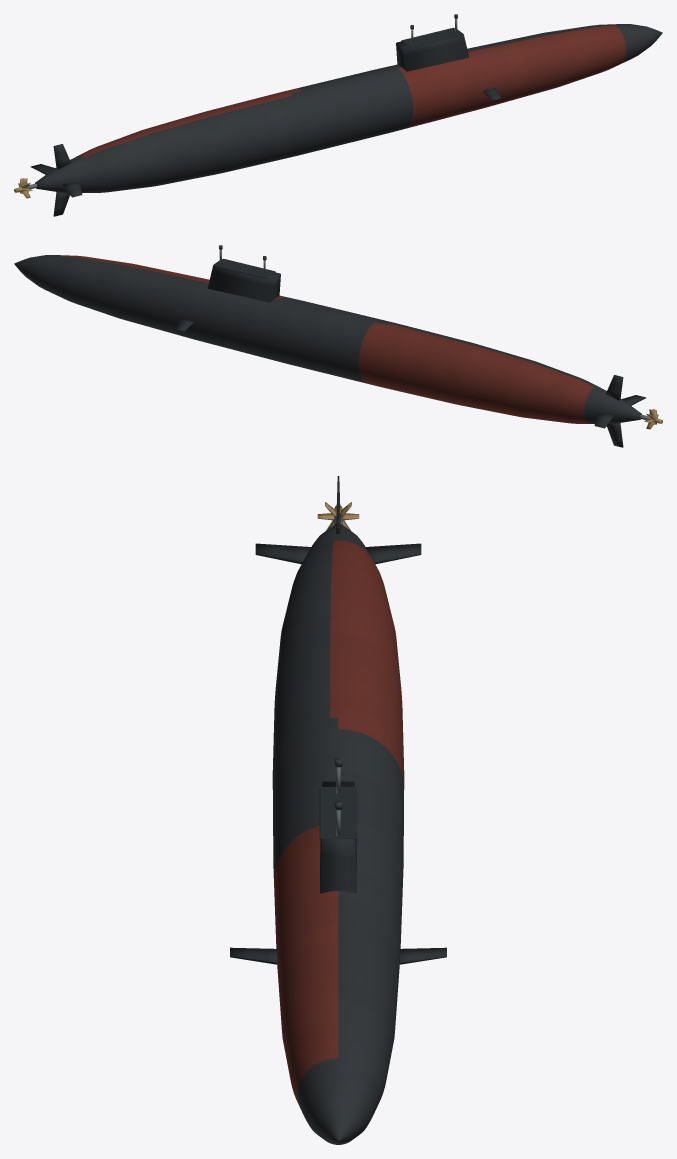
Rendered from US_SSN_LosAngeles.glb.
The picture shows the model from 3 angles, top to bottom: view 1: azimuth 30°, elevation 25°; view 2: azimuth 150°, elevation 25°; view 3: azimuth 270°, elevation 25°; orthographic projection. The views are drawn at different scales.
Visible parts, largest first — view 1: US_SSN_LosAngeles_LOD0; view 2: US_SSN_LosAngeles_LOD0; view 3: US_SSN_LosAngeles_LOD0.
Boxes of the visible parts, bbox=[...] form: US_SSN_LosAngeles_LOD0: bbox=[14, 14, 662, 216]; US_SSN_LosAngeles_LOD0: bbox=[14, 245, 662, 447]; US_SSN_LosAngeles_LOD0: bbox=[230, 476, 446, 1144].
Bounding box in the file's own units: 114 × 17.36 × 16.48.
Materials: 6 (1 with a texture image).
